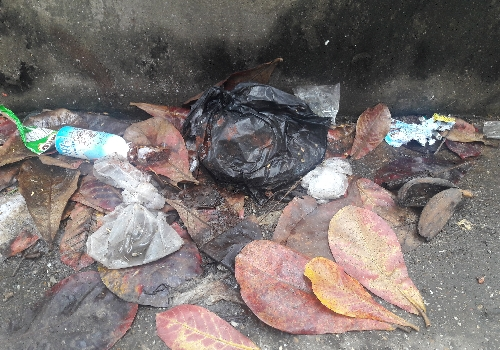trash: (5, 68, 500, 226)
